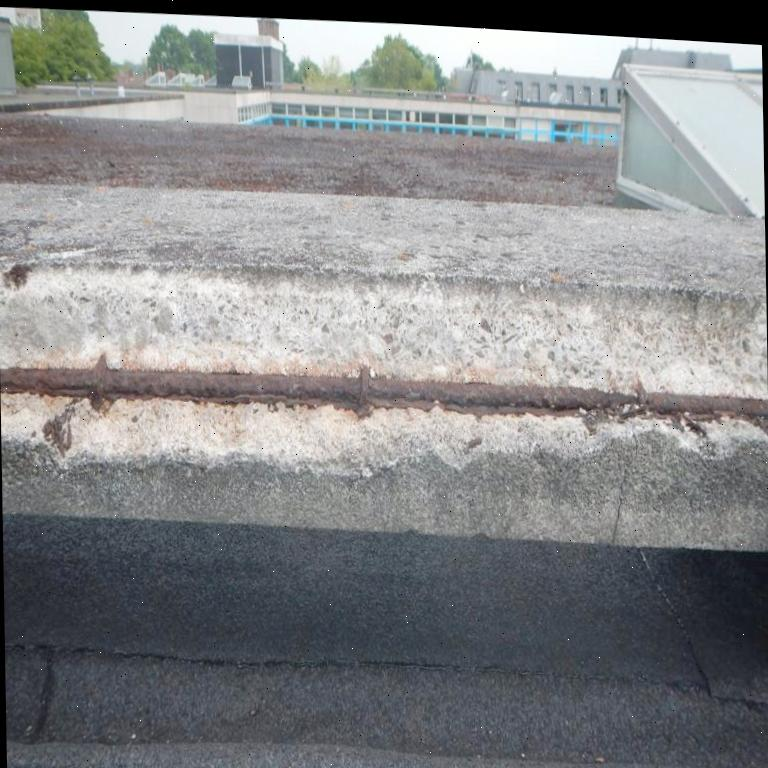exposed_rebar: (0, 359, 768, 418)
spalling: (0, 262, 768, 476)
